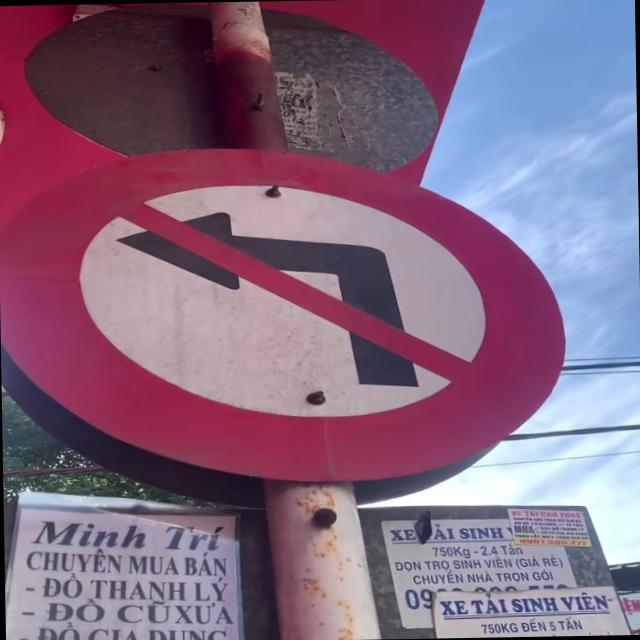Cam_Re_Trai: (0, 142, 568, 491)
